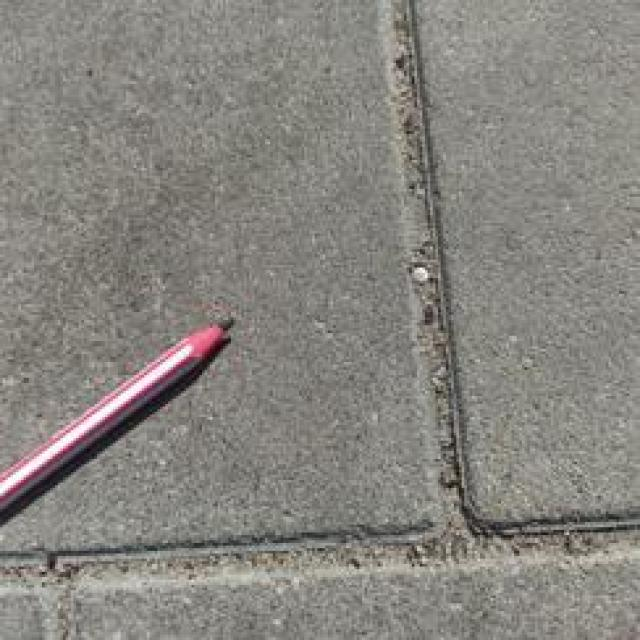pencil: (2, 276, 283, 535)
